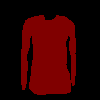maglia: (20, 14, 76, 95)
